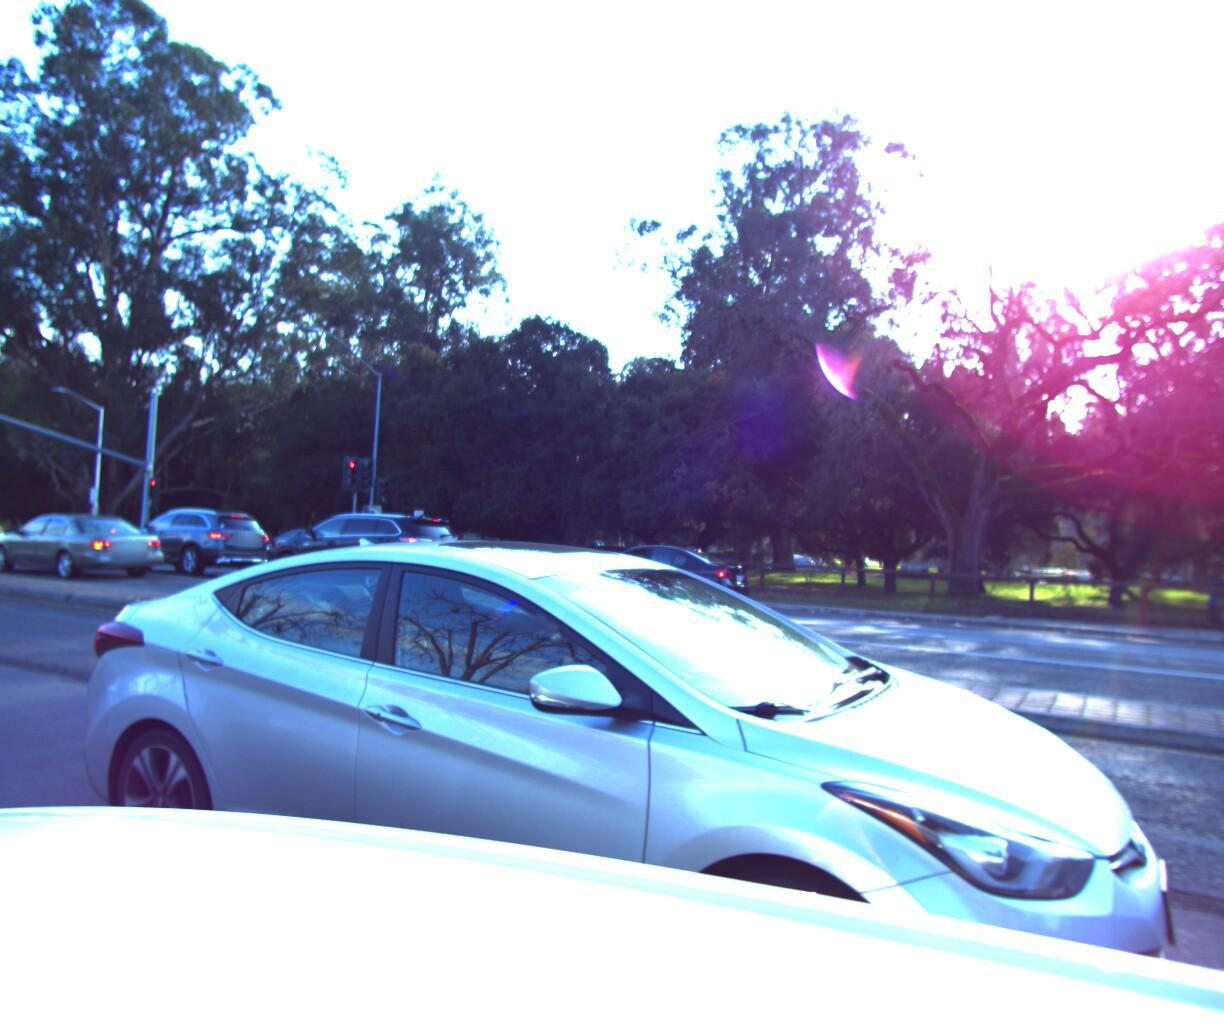bus: (1190, 500, 1224, 790)
car: (29, 519, 1094, 1024), (245, 505, 470, 597), (549, 534, 764, 617), (101, 499, 279, 577), (0, 503, 175, 580), (227, 519, 393, 578), (552, 542, 695, 589), (0, 511, 4, 542)
